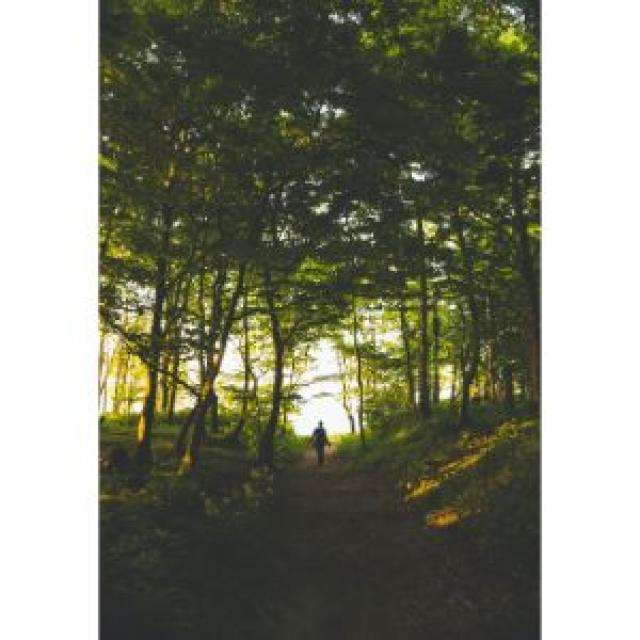nonfall: (306, 422, 333, 478)
